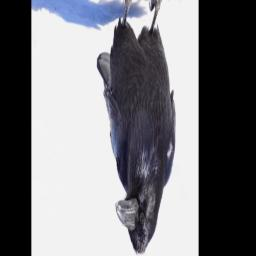Crow: (95, 0, 176, 256)
